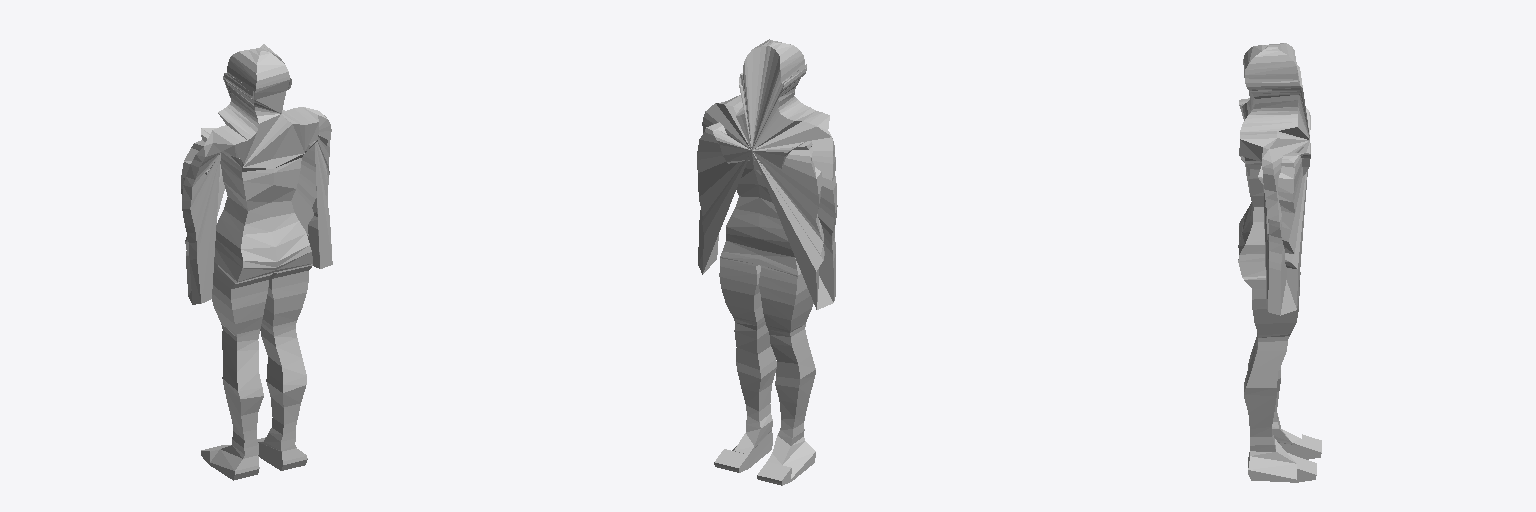
Rendered from woman_000002.obj.
3 views of the same model, side by side, from view 1: azimuth 30°, elevation 25°; view 2: azimuth 150°, elevation 25°; view 3: azimuth 270°, elevation 25° (orthographic).
Visible parts, largest first — view 1: Cube_Cube.001; view 2: Cube_Cube.001; view 3: Cube_Cube.001.
Boxes of the visible parts, x1=… form: Cube_Cube.001: x1=181, y1=44, x2=332, y2=480; Cube_Cube.001: x1=697, y1=39, x2=837, y2=485; Cube_Cube.001: x1=1238, y1=43, x2=1321, y2=482.
Bounding box in the file's own units: 3.51 × 9.95 × 1.8.